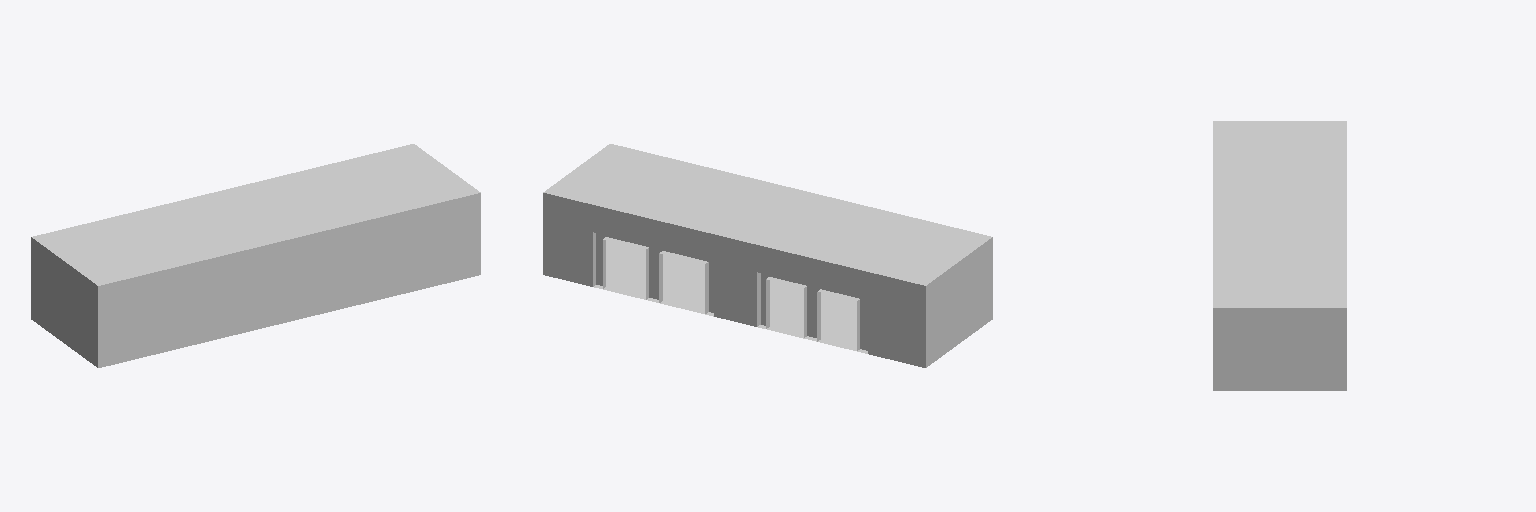
The model's file is tst_level2.obj.
3 renders of one model, left to right at view 1: azimuth 30°, elevation 25°; view 2: azimuth 150°, elevation 25°; view 3: azimuth 270°, elevation 25°, orthographic.
Visible parts, largest first — view 1: mesh01; view 2: mesh01; view 3: mesh01.
Boxes of the visible parts, x1,y1,x2,y2 form: mesh01: [31, 144, 480, 367]; mesh01: [543, 144, 992, 367]; mesh01: [1213, 121, 1346, 390].
Size of the model in its own units: 1601 by 329 by 487.